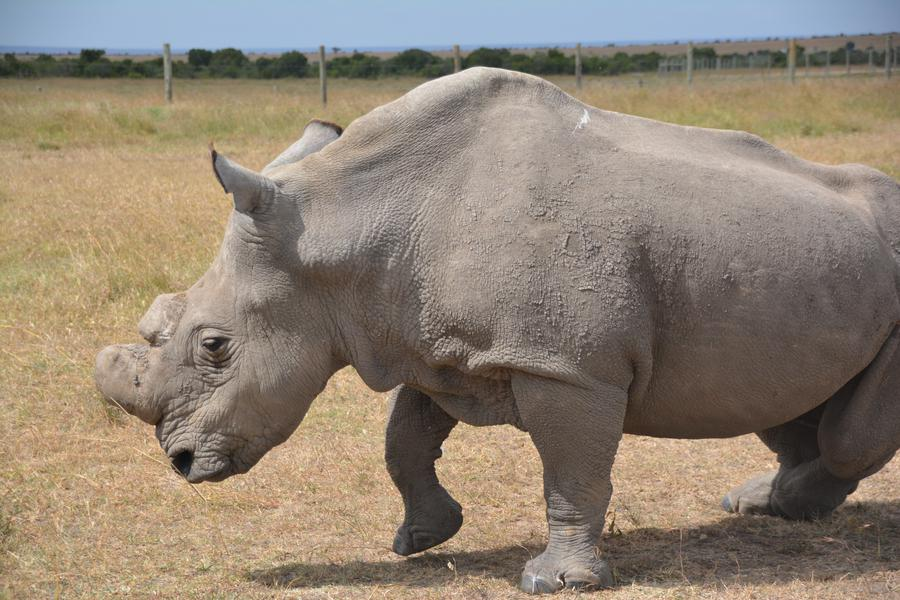rhino: (131, 49, 872, 559)
